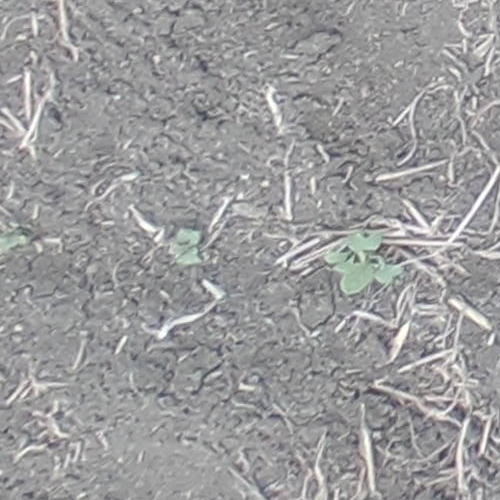plant: (324, 233, 393, 293), (167, 228, 201, 265), (1, 221, 27, 263)
